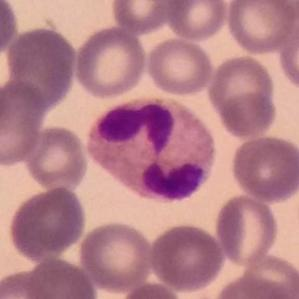Neutrophil: (80, 93, 222, 206)
RBC: (2, 24, 80, 111), (205, 52, 279, 140), (6, 184, 89, 262), (77, 218, 156, 294), (72, 24, 148, 100), (148, 221, 227, 293), (213, 192, 281, 269), (228, 132, 299, 203), (22, 123, 91, 192), (144, 35, 215, 98), (0, 78, 48, 168), (223, 0, 298, 56), (22, 255, 99, 299), (163, 0, 230, 43), (239, 252, 299, 298), (108, 0, 177, 36), (210, 272, 296, 299), (276, 13, 299, 94), (0, 266, 58, 298), (0, 0, 21, 61), (117, 281, 186, 299), (263, 0, 299, 23)
